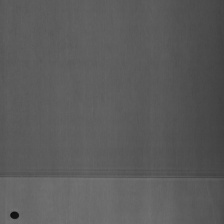welding_line: (0, 169, 224, 186)
